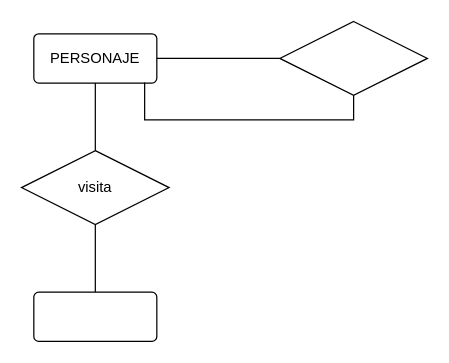
This 449x363 diagram has some shape labels left out. Here are the shapes that lost their labels. From the top down, the centre of each, then its label:
the point at 353,57: tiene_hermano
the point at 95,316: LUGAR
